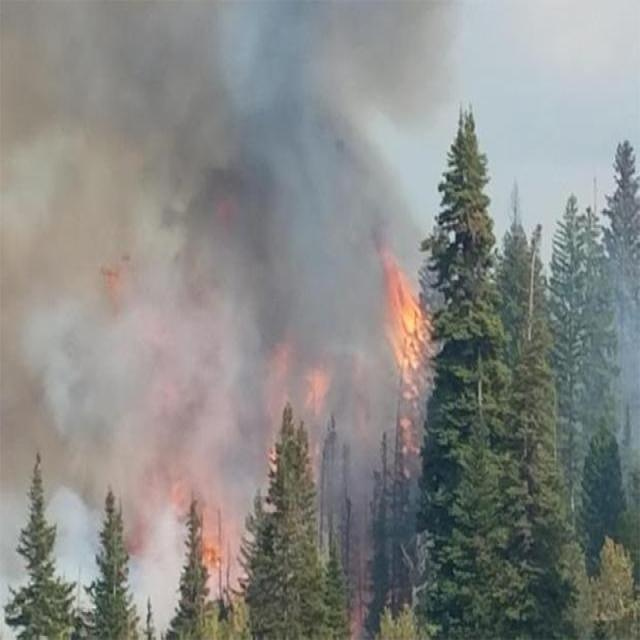Fire: (381, 244, 433, 474)
Smoke: (1, 1, 455, 640)
